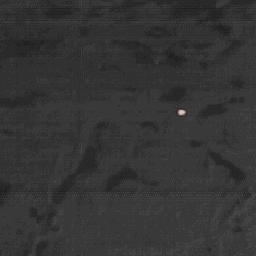Target: (177, 109, 187, 117)
